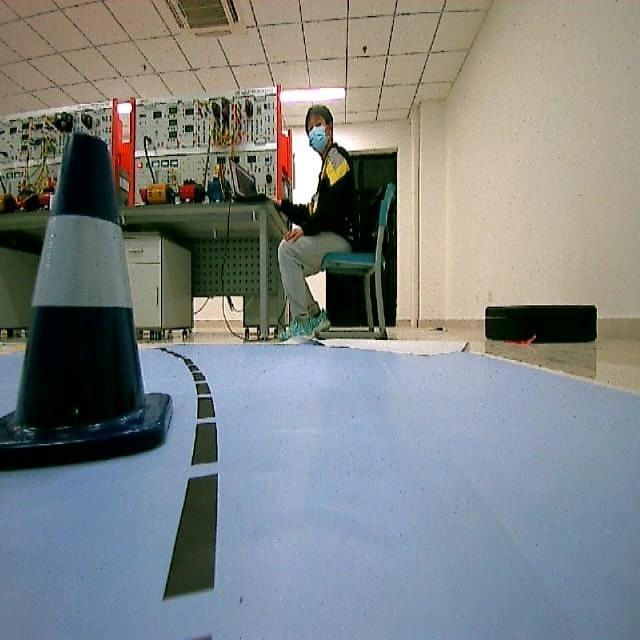obstacle: (0, 134, 170, 472)
